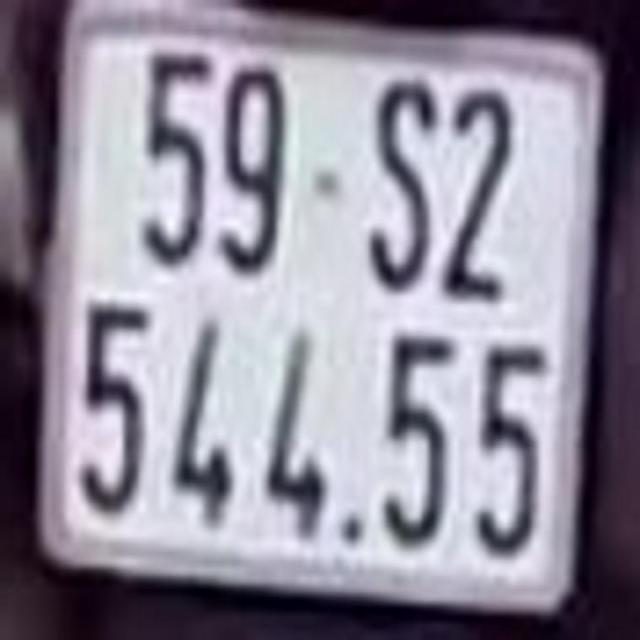2: (448, 90, 508, 301)
4: (170, 315, 233, 528), (267, 335, 330, 540)
5: (78, 303, 149, 512), (480, 345, 548, 553), (389, 332, 455, 543), (143, 53, 205, 266)
9: (219, 67, 280, 271)
S: (371, 79, 437, 292)
